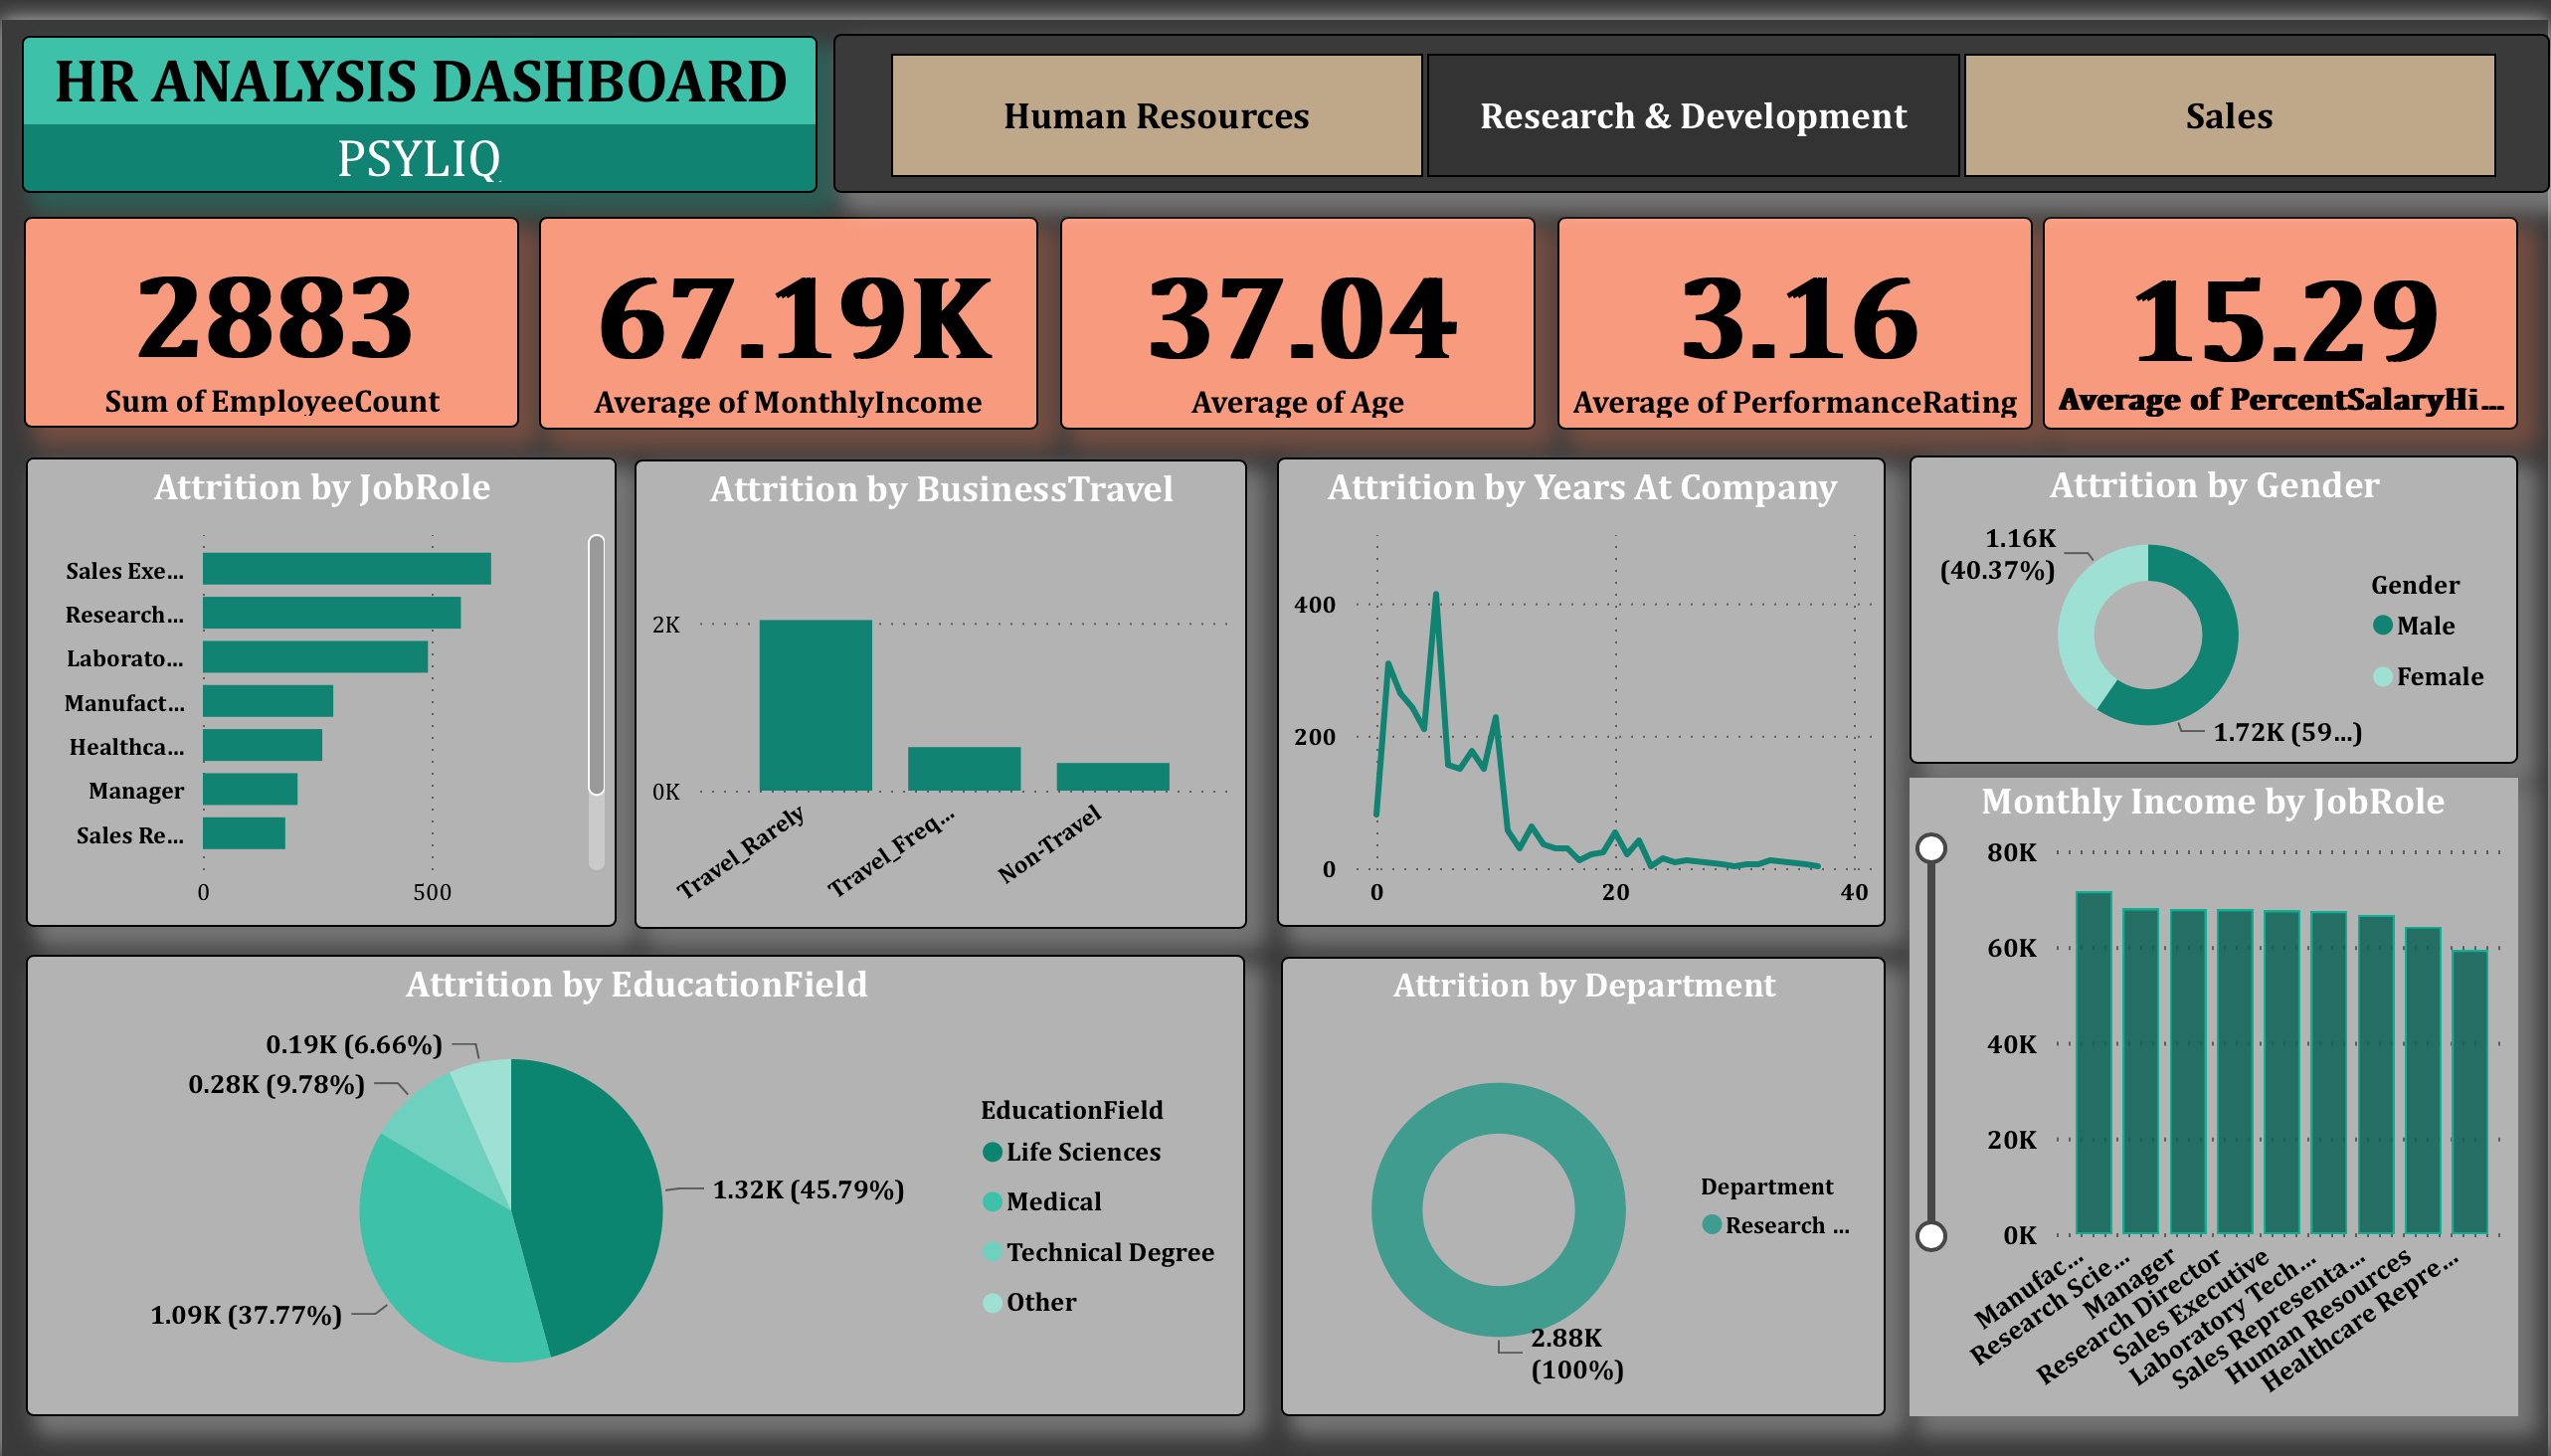

This screenshot's page, from the dashboard's own definition file:
{"tool":"powerbi","page":{"name":"HR ANALYSIS DASHDOARD","canvas":[1280,720],"ordinal":0},"visuals":[{"type":"textbox","title":"HR ANALYSIS DASHBOARD","box":[10.3,7.7,399.3,79.6],"z":0},{"type":"card","fields":{"Values":["Sum(general_data.EmployeeCount)"]},"box":[11,98.8,249.4,106.6],"z":1000},{"type":"card","fields":{"Values":["Avg(general_data.MonthlyIncome)"]},"box":[270.1,98.8,251.1,107.1],"z":2000},{"type":"card","fields":{"Values":["Avg(general_data.Age)"]},"box":[532,98.8,239.2,107.1],"z":3000},{"type":"card","fields":{"Values":["Avg(manager_survey_data.PerformanceRating)"]},"box":[781.9,98.8,239.2,107.1],"z":4000},{"type":"card","fields":{"Values":["Avg(general_data.PercentSalaryHike)"]},"box":[1025.9,98.8,239.2,107.1],"z":5000},{"type":"clusteredBarChart","title":"Attrition by JobRole","fields":{"Category":["general_data.JobRole"],"Y":["CountNonNull(general_data.Attrition)"]},"box":[11.6,219.5,297.9,236.2],"z":6000},{"type":"clusteredColumnChart","title":"Attrition by BusinessTravel","fields":{"Y":["CountNonNull(general_data.Attrition)"],"Category":["general_data.BusinessTravel"]},"box":[318.4,219.6,307.4,236.8],"z":7000},{"type":"lineChart","title":"Attrition by Years At Company","fields":{"Category":["general_data.YearsAtCompany"],"Y":["CountNonNull(general_data.Attrition)"]},"box":[641.4,219.6,305.8,236.8],"z":8000},{"type":"donutChart","title":"Attrition by Gender","fields":{"Y":["CountNonNull(general_data.Attrition)"],"Category":["general_data.Gender"]},"box":[959.2,219,305.9,154.7],"z":9000},{"type":"slicer","fields":{"Values":["general_data.Department"]},"box":[417.7,7.1,862.8,79.7],"z":10000},{"type":"pieChart","title":"Attrition by EducationField","fields":{"Y":["CountNonNull(general_data.Attrition)"],"Category":["general_data.EducationField"]},"box":[11.6,469.9,613.7,232.4],"z":11000},{"type":"donutChart","title":"Attrition by Department","fields":{"Y":["CountNonNull(general_data.Attrition)"],"Category":["general_data.Department"]},"box":[643.2,471.2,304.3,231.1],"z":12000},{"type":"clusteredColumnChart","title":"Monthly Income by JobRole","fields":{"Category":["general_data.JobRole"],"Y":["Avg(general_data.MonthlyIncome)"]},"box":[959.2,380.8,305.9,321.3],"z":13000}]}

Visuals, with their boxes in screenshot pixels (x1, y1, x2, y2), scaled from the page's 1280x720 canvas onto the 2551x1456 screenshot:
"HR ANALYSIS DASHBOARD" textbox: detection(21, 16, 817, 177)
card - Sum(general_data.EmployeeCount): detection(22, 200, 519, 416)
card - Avg(general_data.MonthlyIncome): detection(538, 200, 1038, 417)
card - Avg(general_data.Age): detection(1060, 200, 1537, 417)
card - Avg(manager_survey_data.PerformanceRating): detection(1558, 200, 2035, 417)
card - Avg(general_data.PercentSalaryHike): detection(2045, 200, 2521, 417)
"Attrition by JobRole" clusteredBarChart: detection(23, 444, 617, 922)
"Attrition by BusinessTravel" clusteredColumnChart: detection(635, 445, 1247, 923)
"Attrition by Years At Company" lineChart: detection(1278, 445, 1888, 923)
"Attrition by Gender" donutChart: detection(1912, 443, 2521, 756)
slicer - general_data.Department: detection(832, 14, 2550, 175)
"Attrition by EducationField" pieChart: detection(23, 950, 1246, 1420)
"Attrition by Department" donutChart: detection(1282, 953, 1889, 1420)
"Monthly Income by JobRole" clusteredColumnChart: detection(1912, 770, 2521, 1420)
